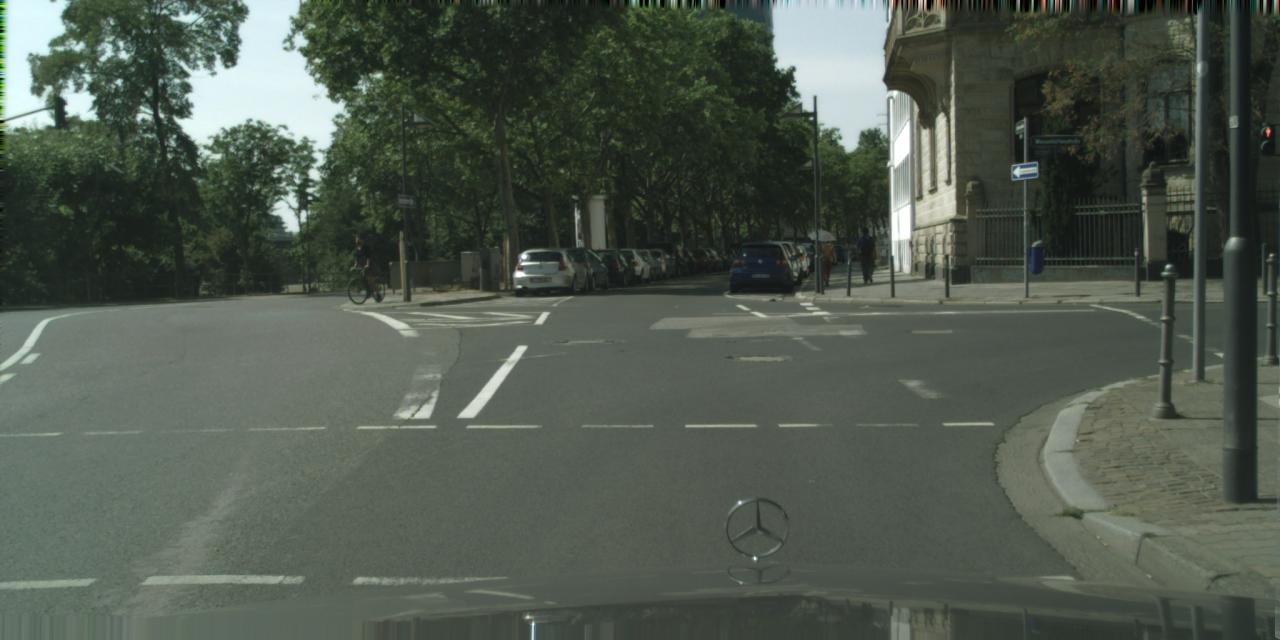ped: (854, 226, 878, 284), (353, 236, 377, 294), (816, 233, 836, 288), (842, 239, 852, 265)
